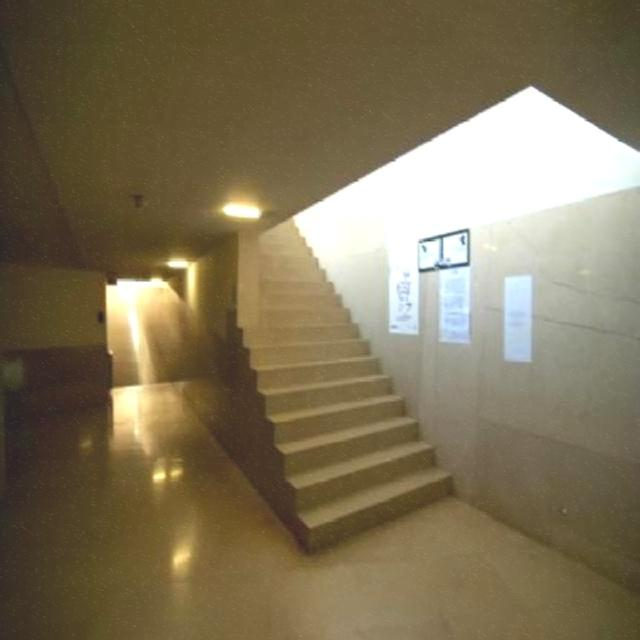stair: (232, 211, 456, 557)
